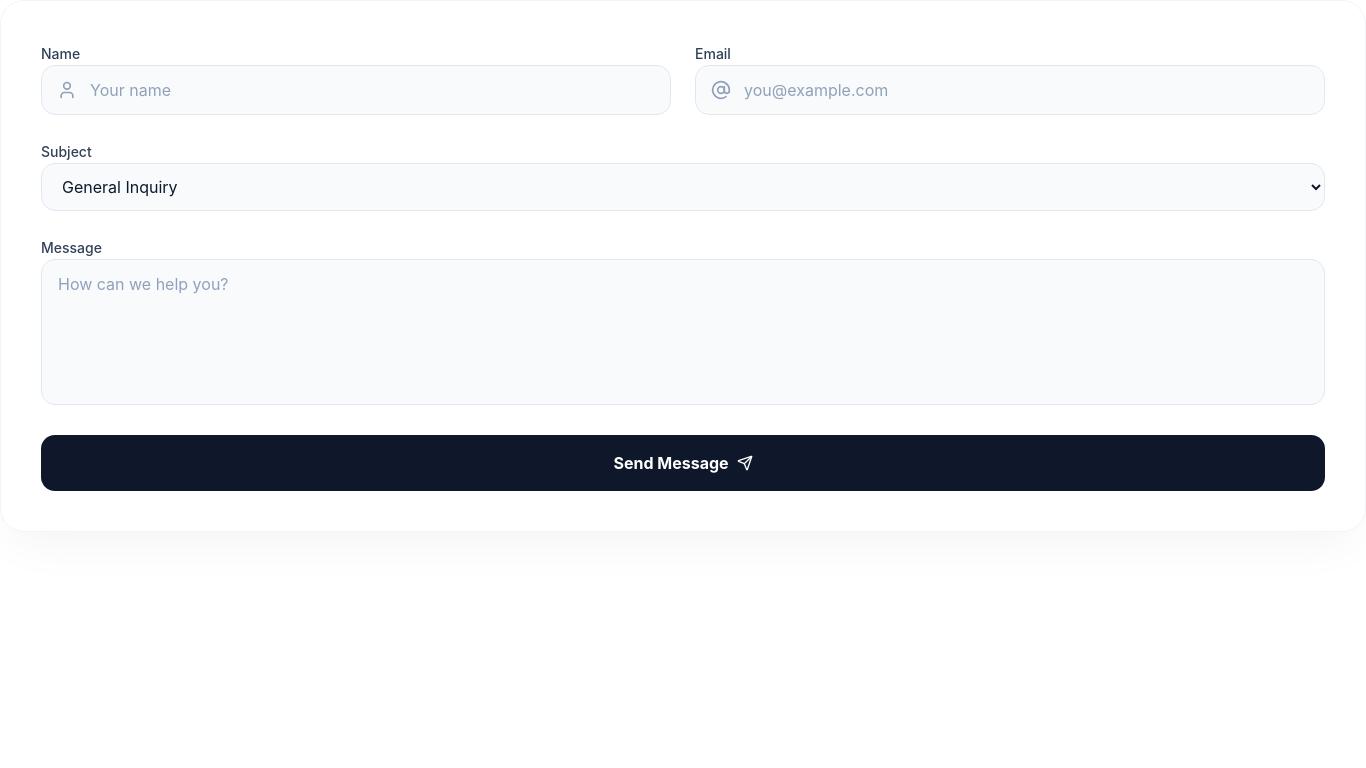
Test case: ContactForm › shows an error message when sendEmail rejects
Type "Ada Lovelace" into the field labelled "Name". click: (356, 90)
box: [41,65,671,115]
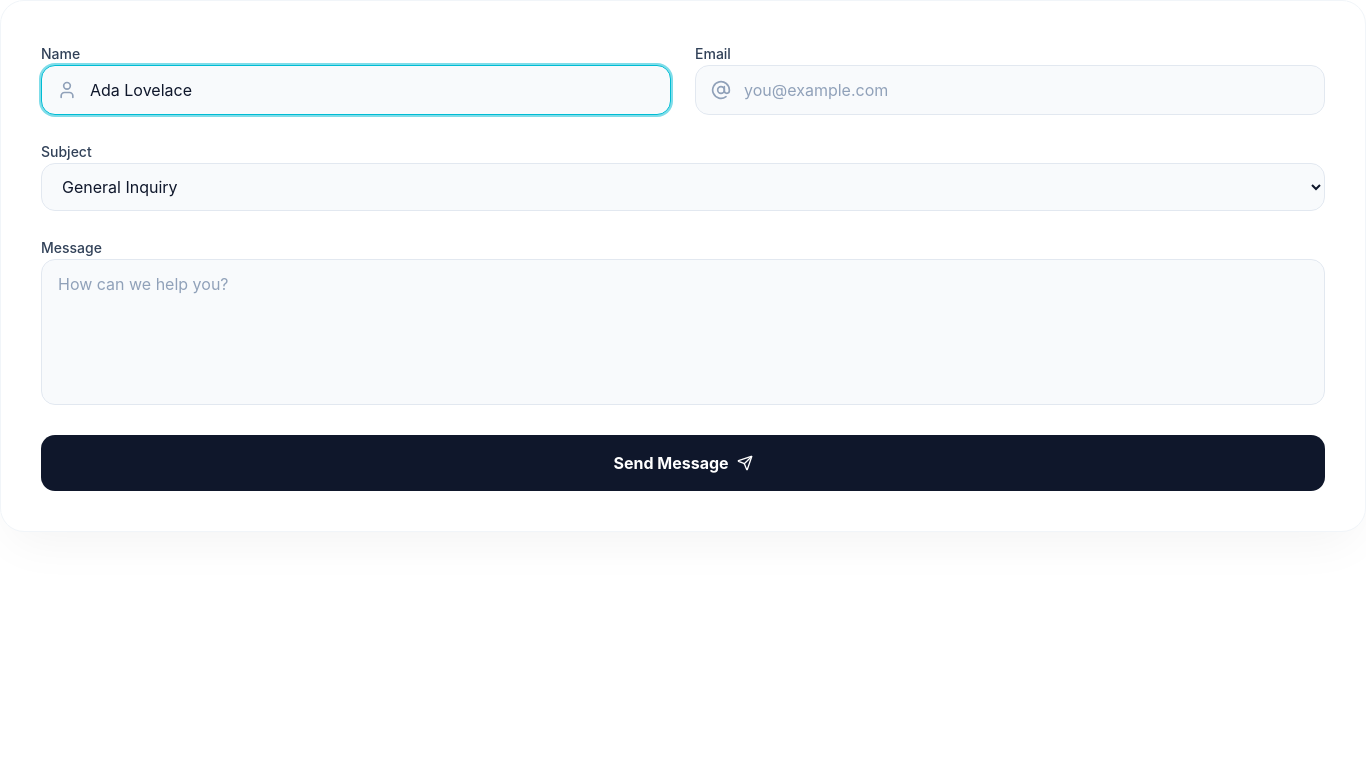
Type "ada@example.com" into the field labelled "Email". click: (1010, 90)
box: [695,65,1325,115]
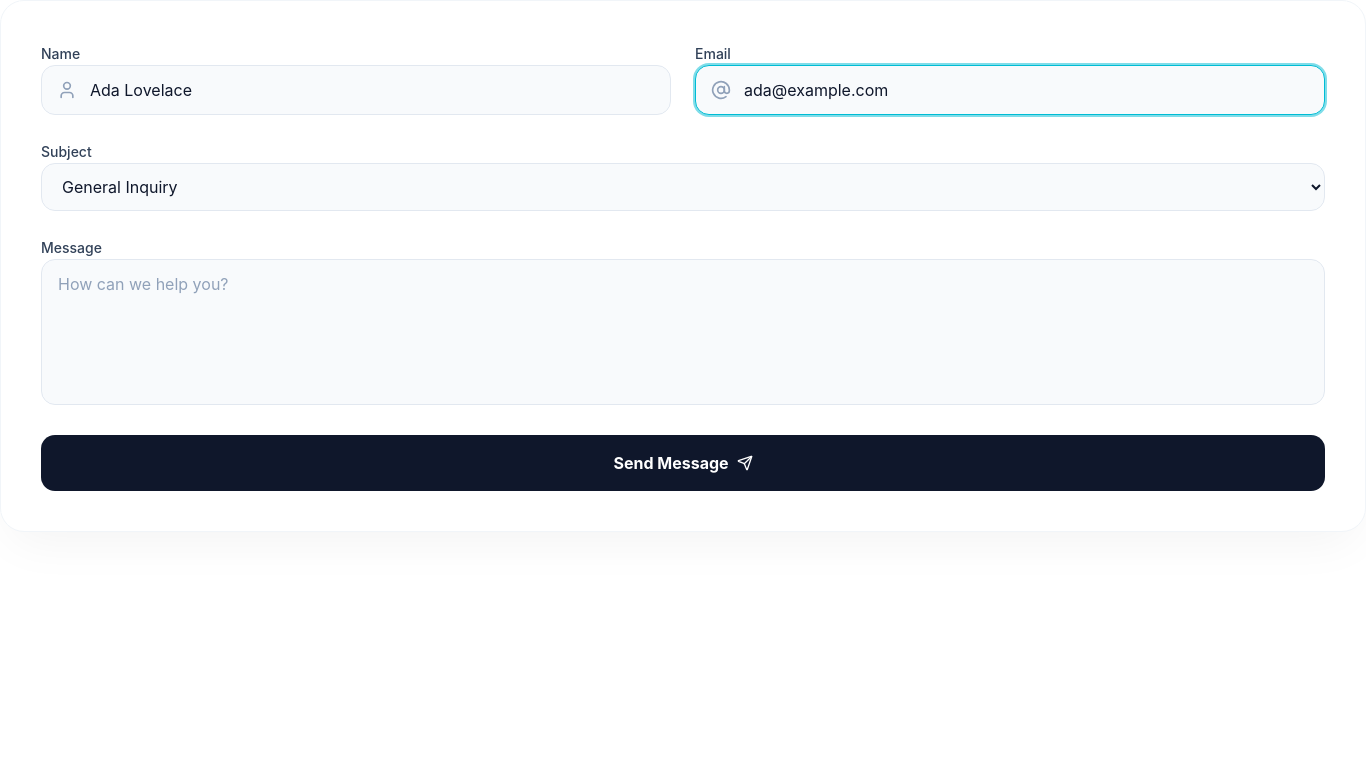
Type "Testing the contact form." into the text box labelled "Message". click: (683, 332)
box: [41,259,1325,405]
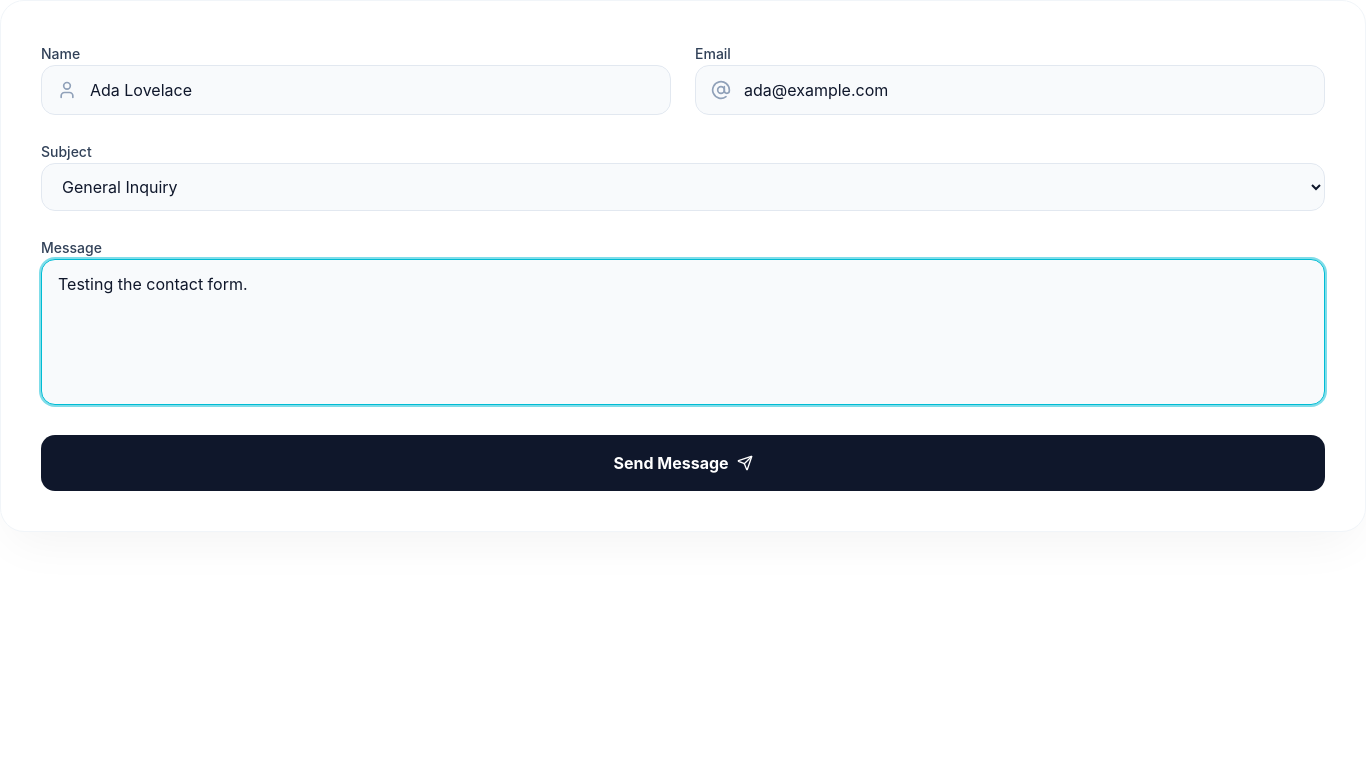
Click the button "Send Message". click: (683, 463)
box: [41,435,1325,491]
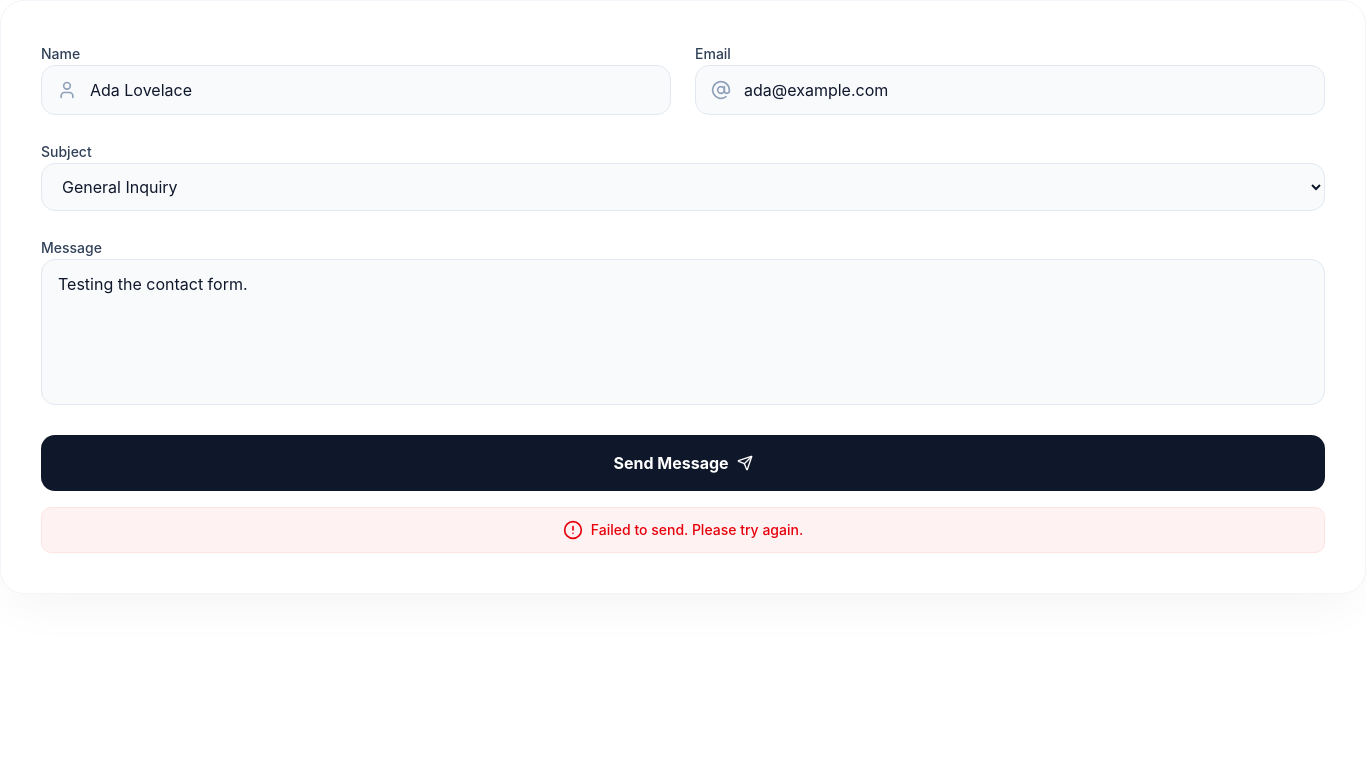
Check: the text "Failed to send. Please try again." is shown, box [591,520,803,540]
